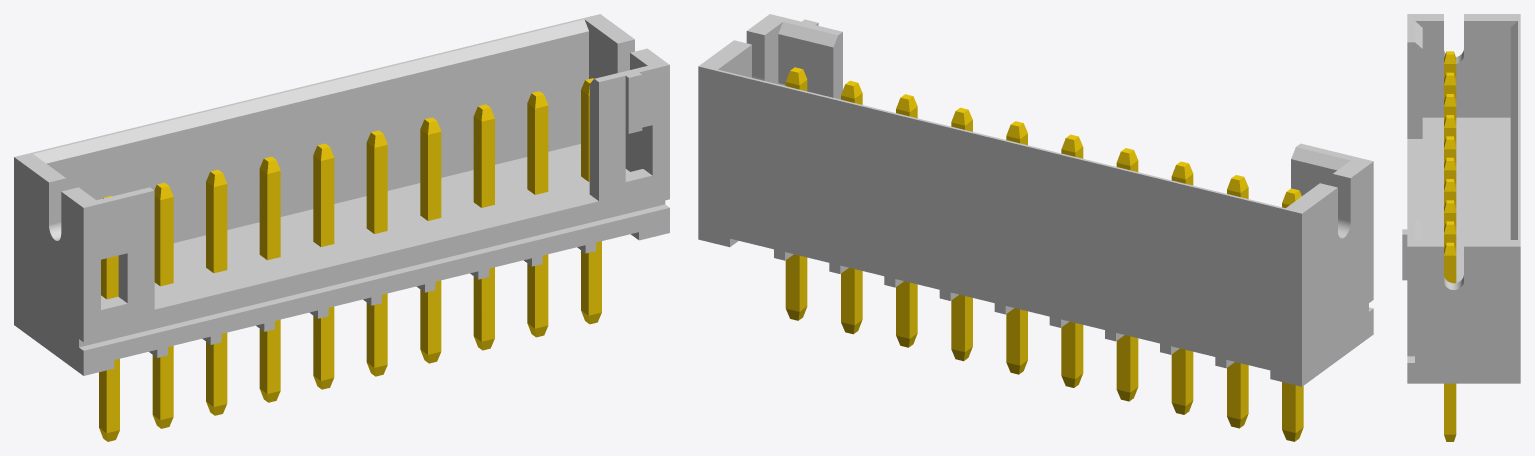
The picture shows the model from 3 angles, left to right: view 1: azimuth 30°, elevation 25°; view 2: azimuth 150°, elevation 25°; view 3: azimuth 270°, elevation 25°; orthographic projection. The views are drawn at different scales.
Parts seen in each view (by area): view 1: BxB-PH-K-S; view 2: BxB-PH-K-S; view 3: BxB-PH-K-S.
Part boxes in pixels (<box>): BxB-PH-K-S: <box>14,14,669,441</box>; BxB-PH-K-S: <box>698,14,1373,441</box>; BxB-PH-K-S: <box>1402,14,1520,441</box>.
Bounding box in the file's own units: 0.0219 × 0.0094 × 0.0047.
